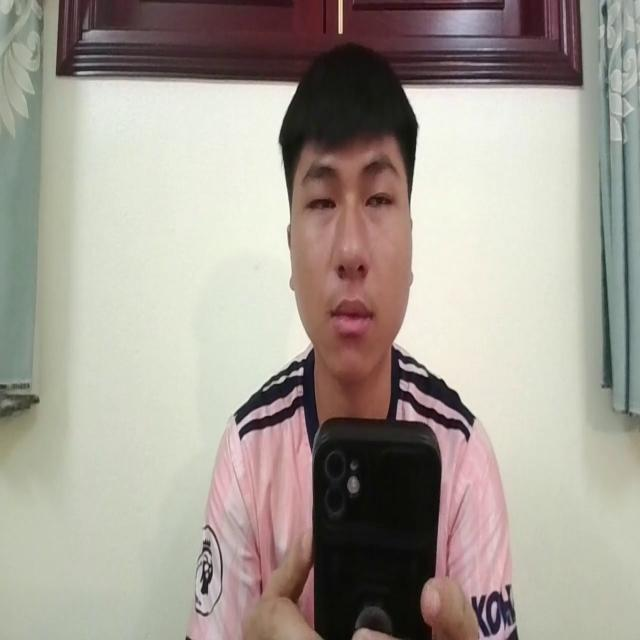phone: (310, 410, 442, 640)
student: (188, 46, 513, 640)
